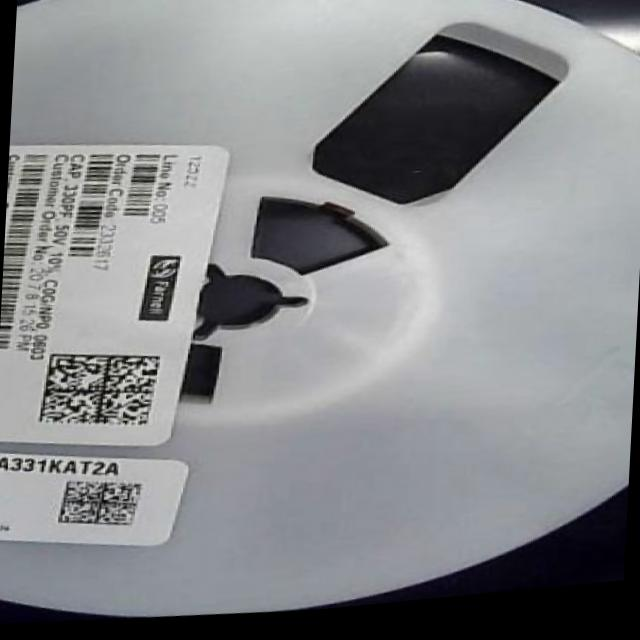datamatrix: (35, 346, 165, 438), (55, 475, 147, 536)
